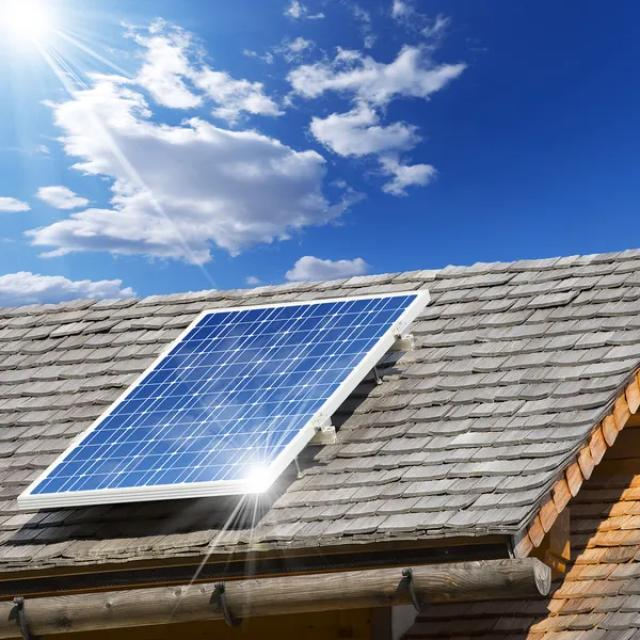clean-solar-panel: (23, 296, 417, 498)
